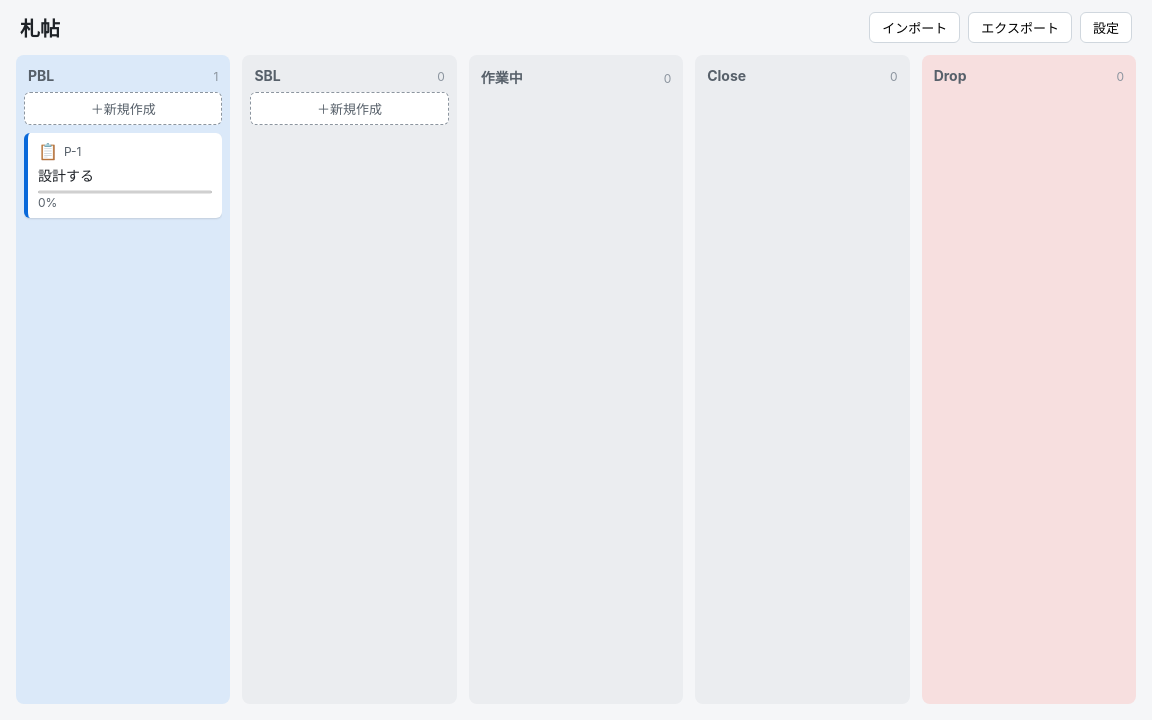
it: App › エクスポートボタンで現在のボードのマークダウンが表示される
Click the button "エクスポート". click: (1020, 28)
box: [968,12,1072,43]
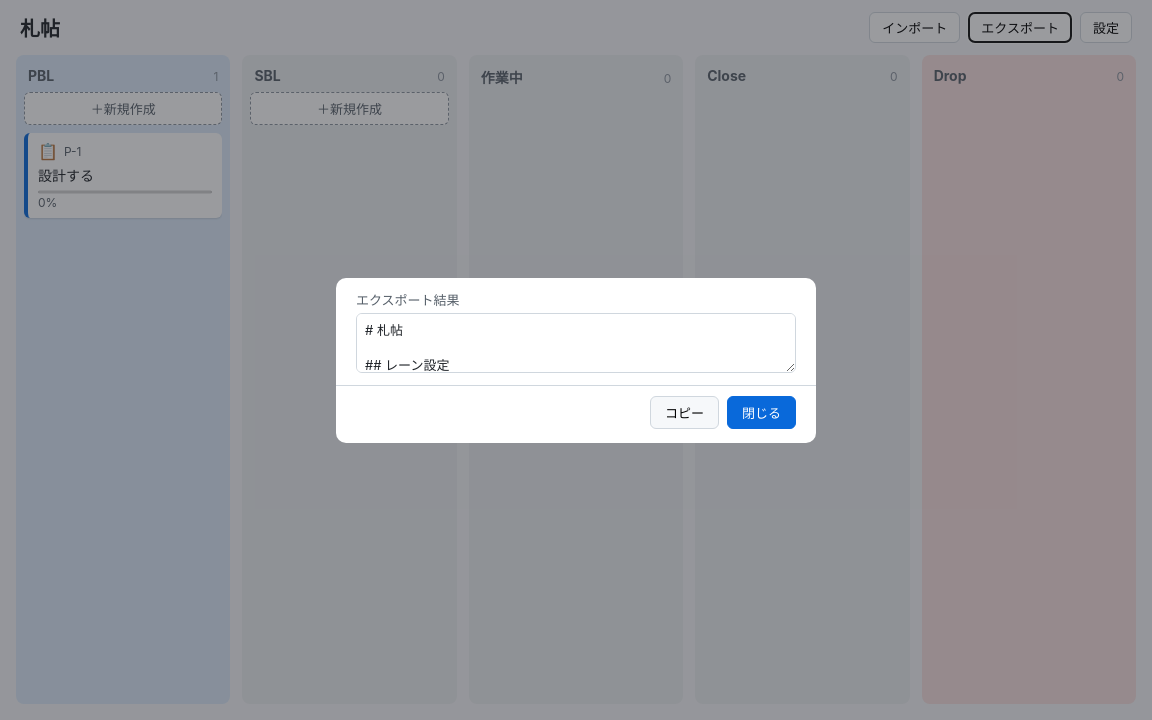
Check: the text box labelled "エクスポート結果" holds "## P-1: 設計する", box [356,312,796,372]
